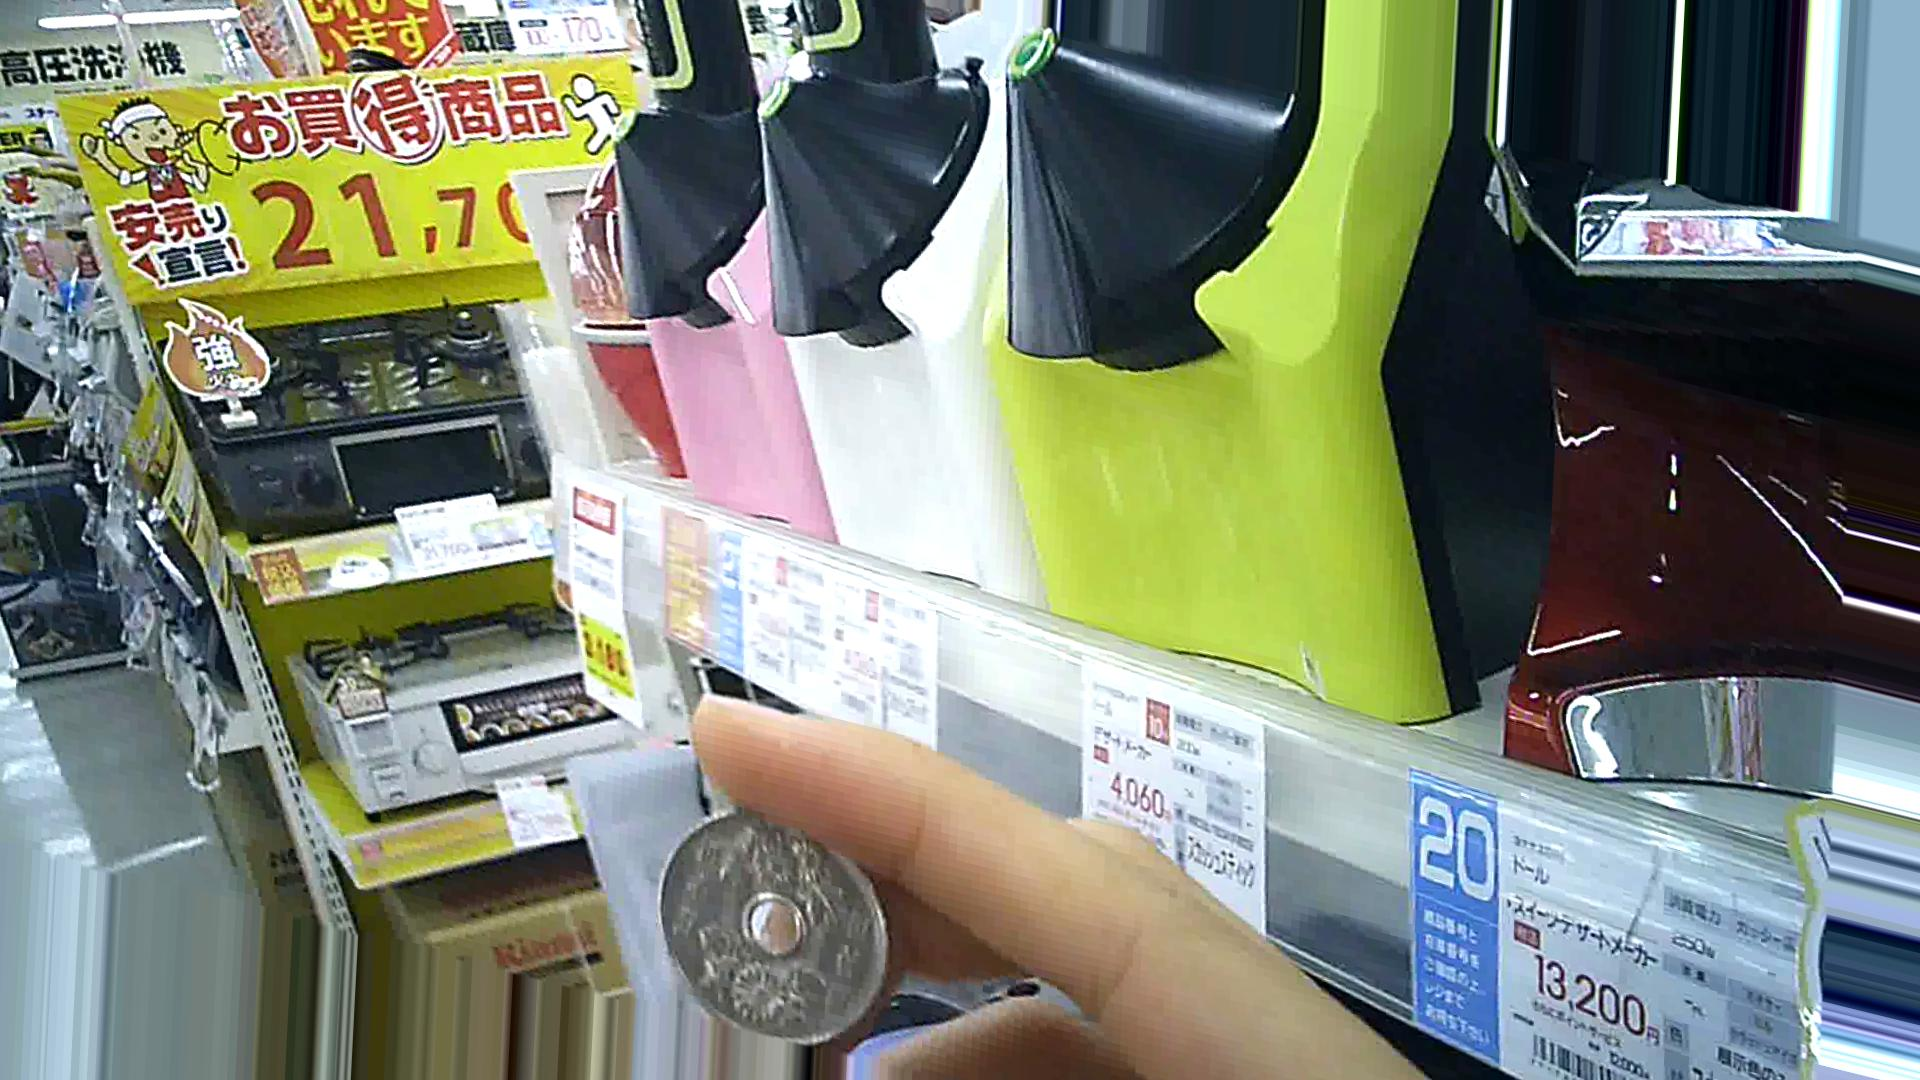50 Yen: (655, 807, 897, 1047)
